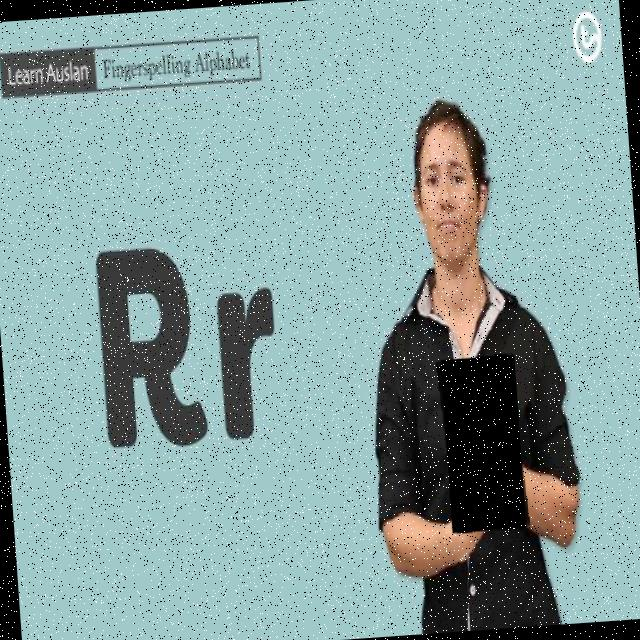R: (439, 355, 529, 535)
